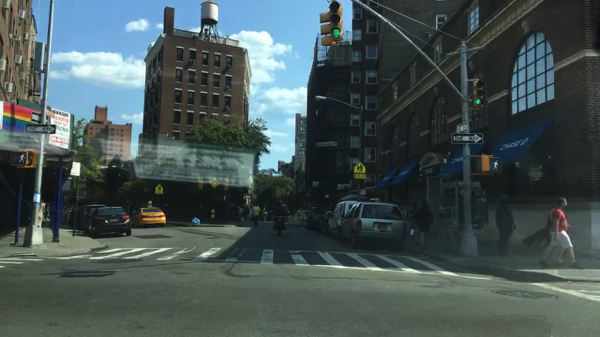car: (339, 201, 407, 253), (86, 206, 132, 239), (329, 200, 359, 239), (128, 201, 166, 229), (71, 204, 106, 230), (304, 207, 330, 231), (317, 211, 334, 234)
motor: (272, 207, 289, 236)
person: (539, 196, 582, 269), (522, 201, 571, 264), (493, 192, 517, 259), (413, 200, 434, 250), (250, 201, 262, 226), (37, 198, 45, 227)
rider: (271, 199, 289, 230)
traffic light: (329, 0, 342, 40), (470, 79, 485, 107), (318, 11, 330, 46), (8, 150, 28, 166), (32, 150, 47, 168), (473, 157, 489, 172), (489, 156, 501, 174)
traffic sign: (24, 124, 56, 135), (451, 132, 482, 143), (352, 160, 366, 179), (30, 113, 49, 123), (69, 162, 81, 176), (454, 122, 469, 133), (208, 177, 219, 188), (154, 184, 164, 195)
